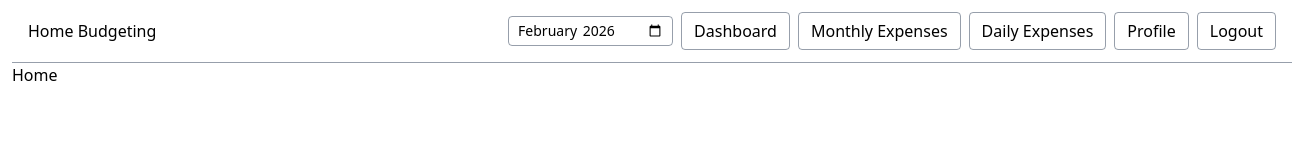
Scenario: Header › shows private links when logged in and navigates
Click the button "Dashboard" at (736, 31), box x1=681 y1=12 x2=790 y2=50
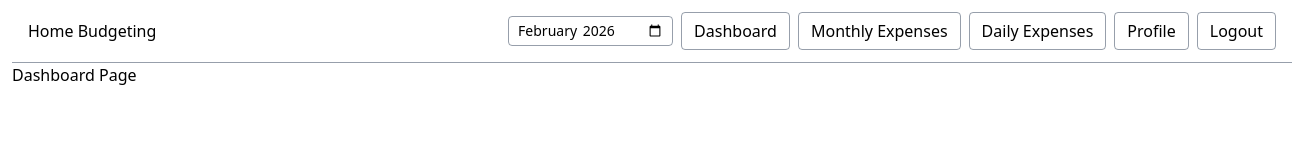
Expected: the button "Logout" is shown, x1=1197 y1=12 x2=1276 y2=50
Expected: the text "Dashboard Page" is shown, x1=12 y1=64 x2=136 y2=86
